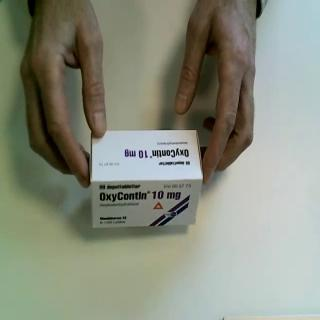oxycontin10mg: (89, 129, 205, 231)
